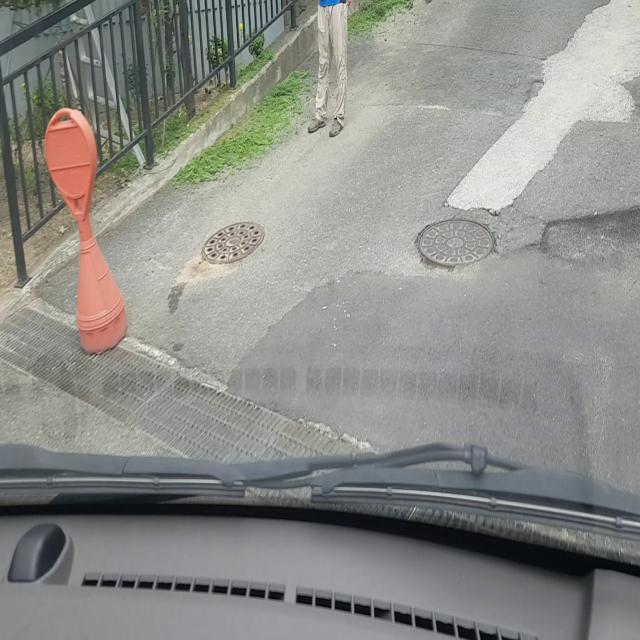Pothole: (413, 216, 500, 272)
